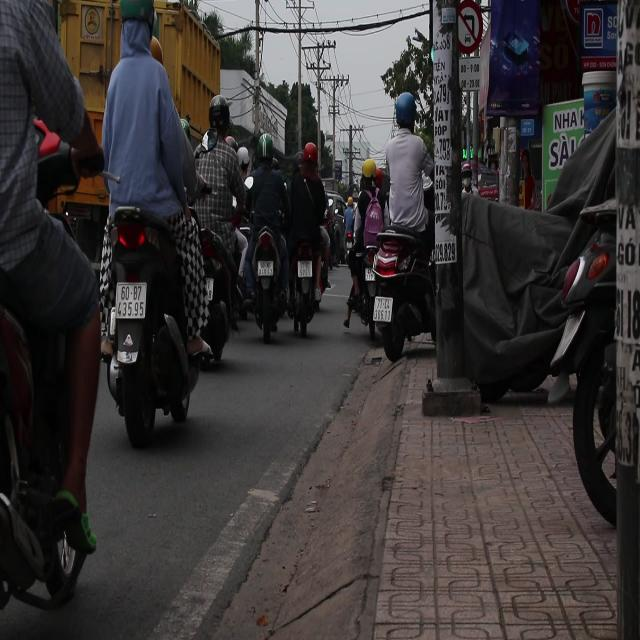motorbike: (92, 178, 209, 440), (364, 220, 437, 364), (242, 222, 290, 344), (286, 210, 328, 342)
